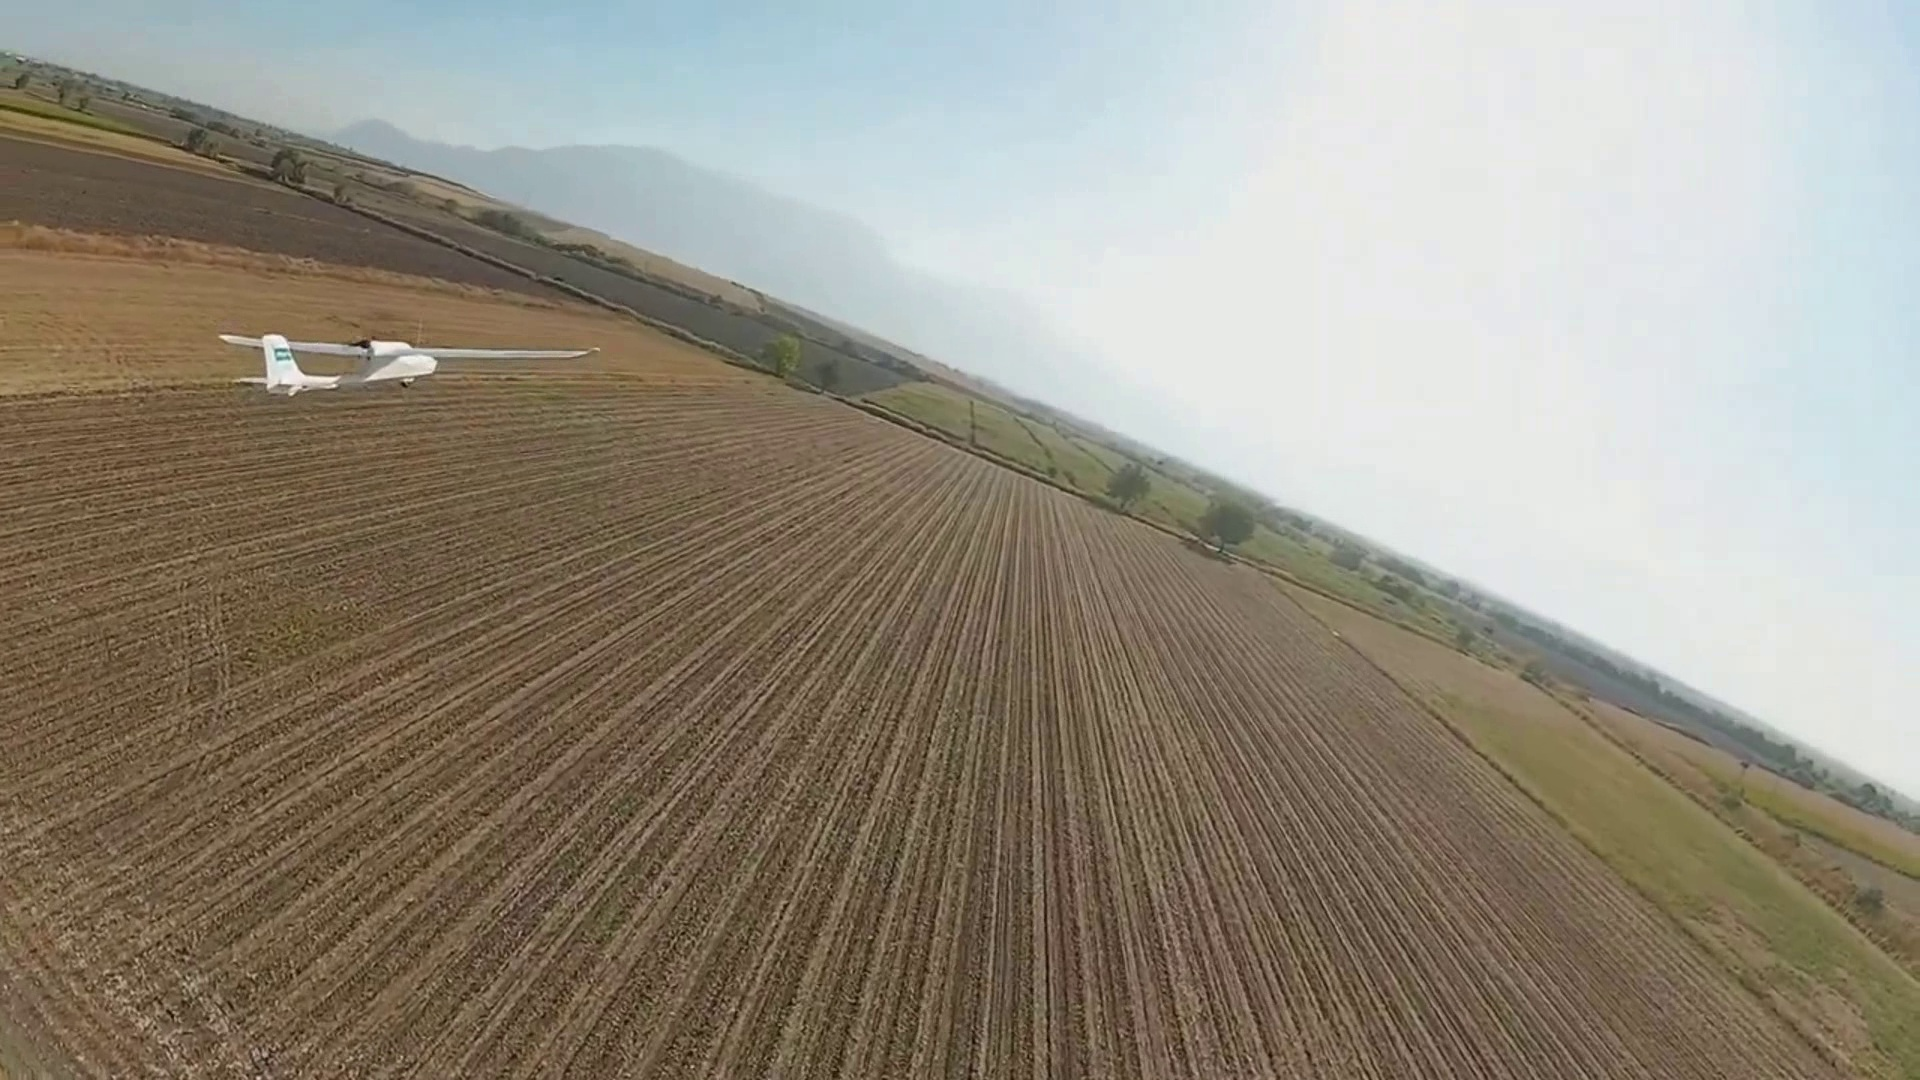airplane: (213, 332, 600, 392), (218, 330, 438, 393)
